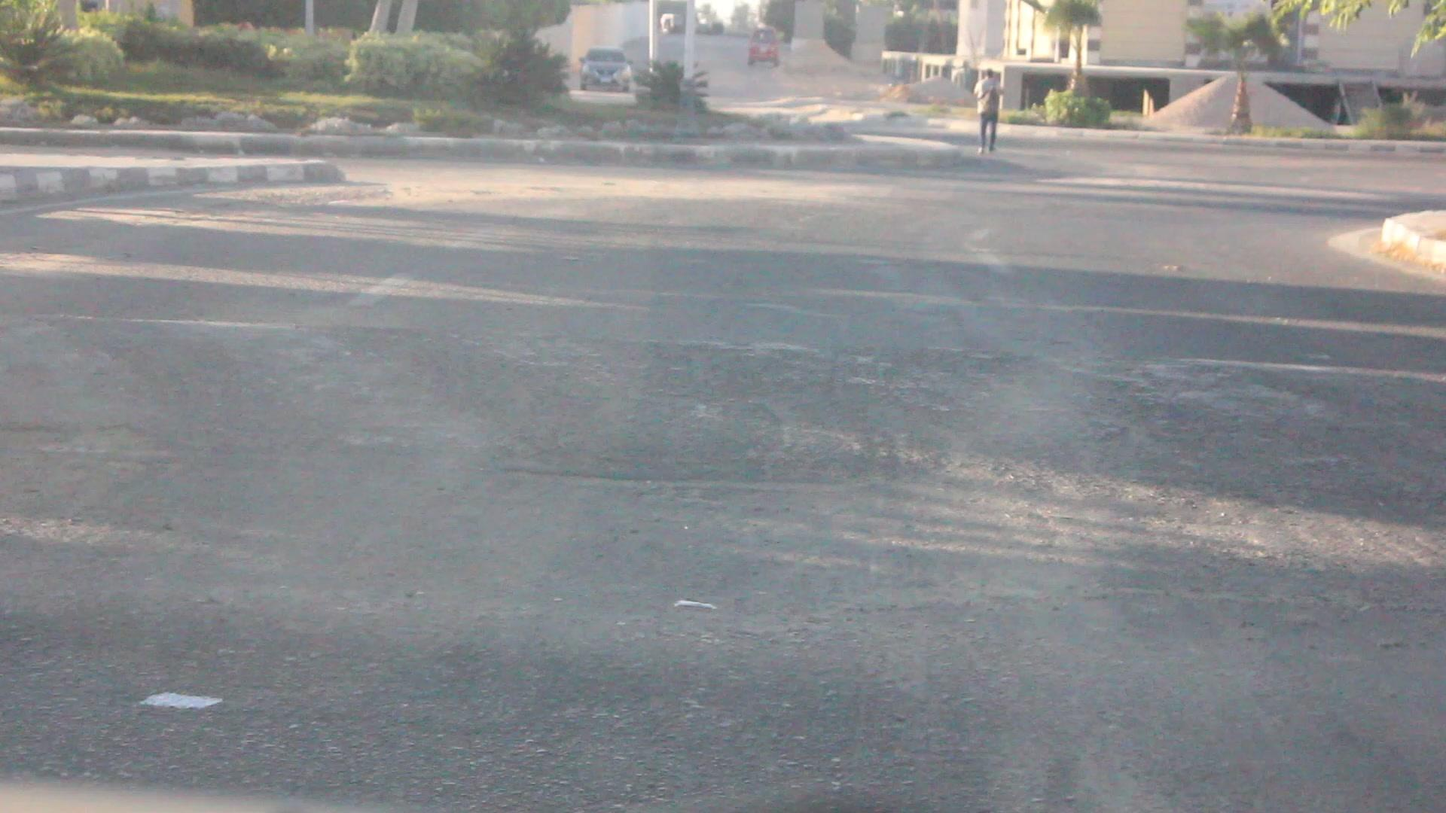Bump: (0, 311, 1445, 513)
